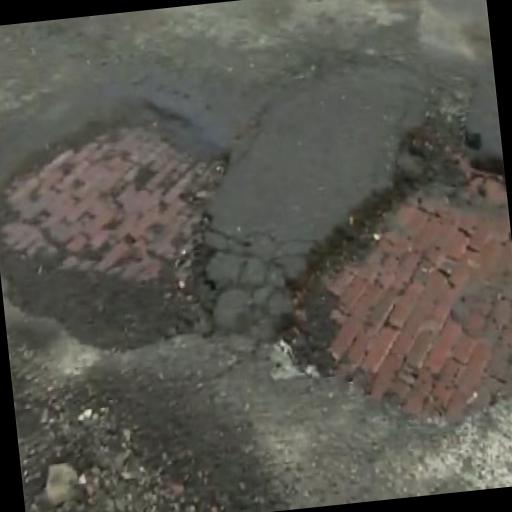pothole: (247, 105, 512, 434), (0, 97, 252, 362)
